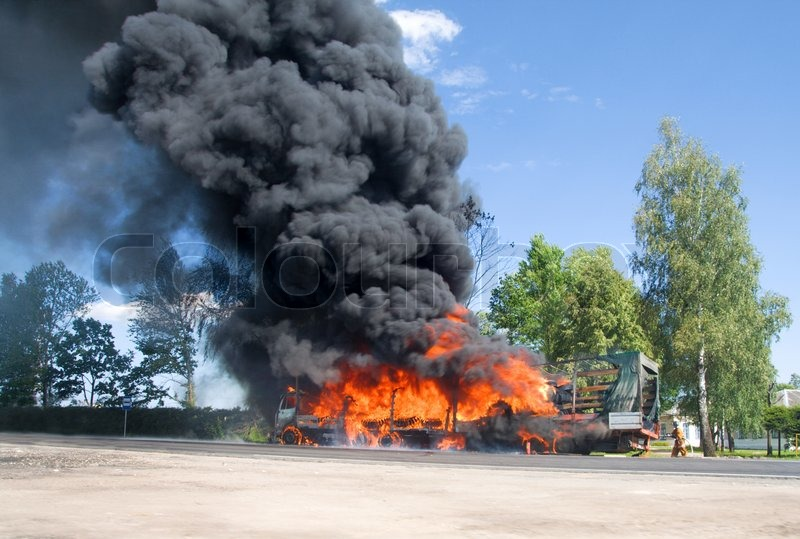fire: (311, 318, 562, 452)
